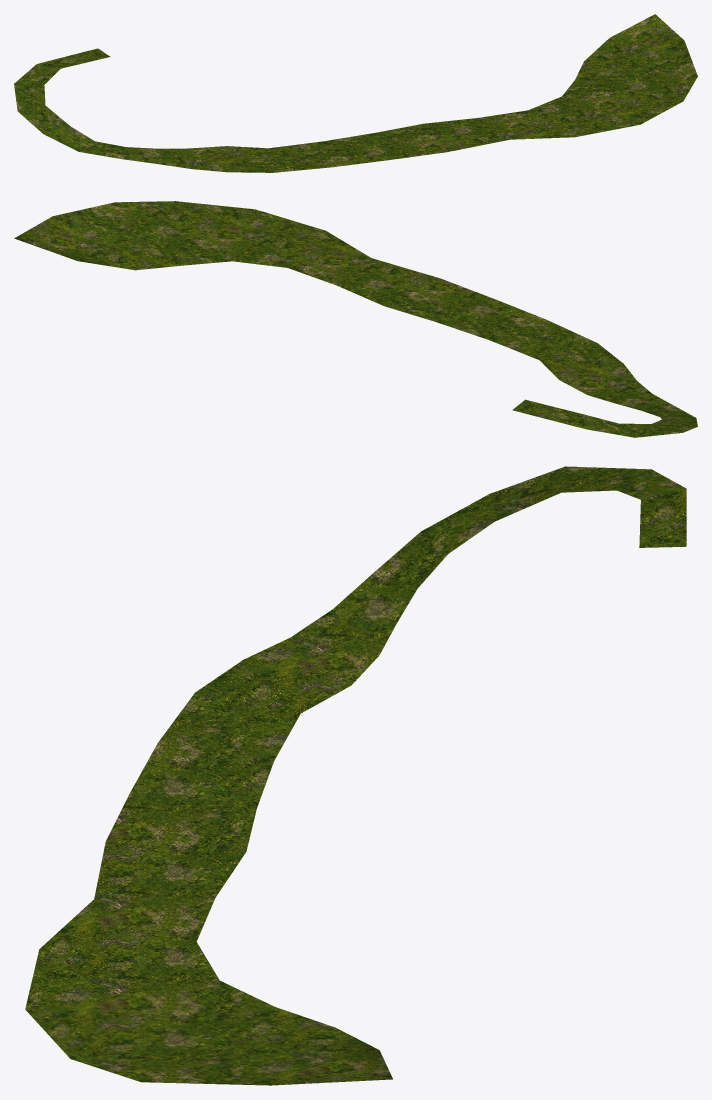
File: OVERHILL_A_01_LINE90.fbx
The picture shows the model from 3 angles, top to bottom: view 1: azimuth 30°, elevation 25°; view 2: azimuth 150°, elevation 25°; view 3: azimuth 270°, elevation 25°; orthographic projection. The views are drawn at different scales.
Parts seen in each view (by area): view 1: OVERHILL_A_01_LINE90; view 2: OVERHILL_A_01_LINE90; view 3: OVERHILL_A_01_LINE90.
Part boxes in pixels (box(x1,y1,x2,y2)): OVERHILL_A_01_LINE90: box(14, 14, 697, 172); OVERHILL_A_01_LINE90: box(14, 201, 697, 437); OVERHILL_A_01_LINE90: box(25, 466, 686, 1085).
Size of the model in its own units: 136360 by 10383 by 65694.
Materials: 1 (1 with a texture image).
